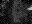person: (25, 6, 31, 10)
